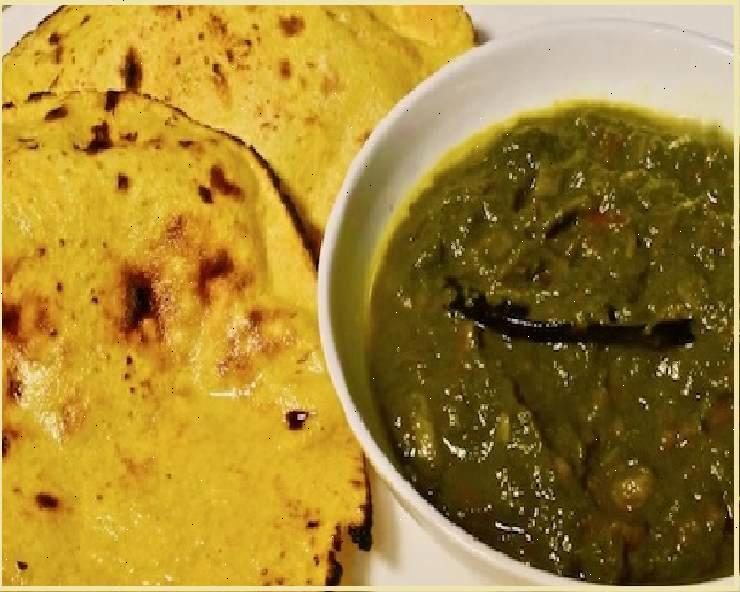saag: (374, 108, 740, 580)
